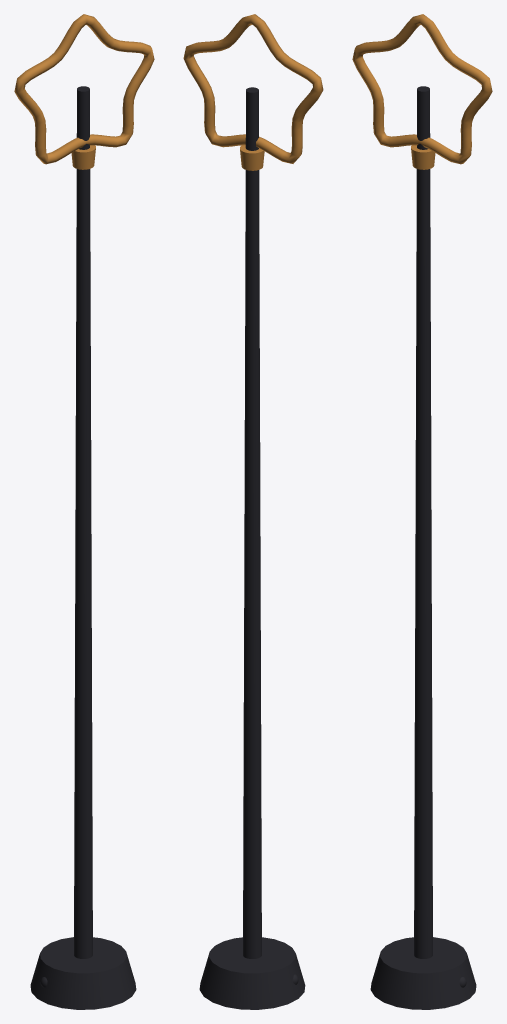
Rendered from mia-star_lamp.glb.
The picture shows the model from 3 angles, left to right: view 1: azimuth 30°, elevation 25°; view 2: azimuth 150°, elevation 25°; view 3: azimuth 330°, elevation 25°; orthographic projection.
Parts seen in each view (by area): view 1: Body_iron, Body_brass; view 2: Body_iron, Body_brass; view 3: Body_iron, Body_brass.
Part boxes in pixels (x1=…): Body_iron: x1=30, y1=86, x2=136, y2=1009; Body_brass: x1=14, y1=14, x2=154, y2=169; Body_iron: x1=199, y1=87, x2=305, y2=1009; Body_brass: x1=183, y1=14, x2=323, y2=170; Body_iron: x1=370, y1=86, x2=476, y2=1009; Body_brass: x1=352, y1=14, x2=492, y2=169.
Bounding box in the file's own units: 0.5174 × 3.47 × 0.344.
